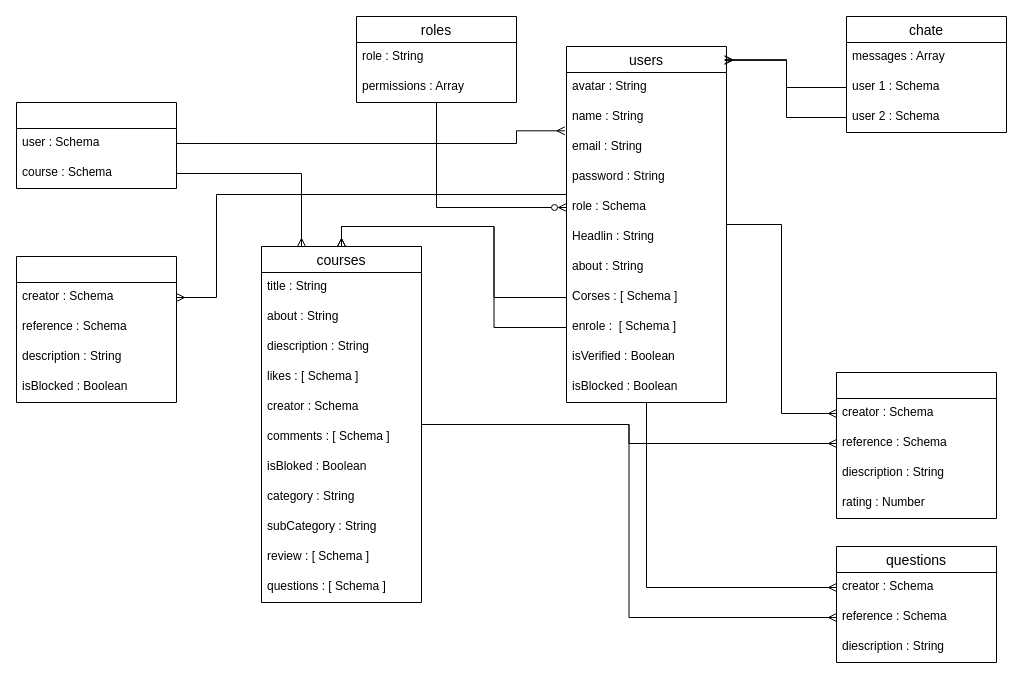
The diagram is 1023 pixels wide and 679 high, and some of its shapes have lost their labels. Each missing label, with the box of its shape:
comments: (16, 256, 176, 402)
likes: (16, 102, 176, 188)
reviews: (836, 372, 996, 518)
